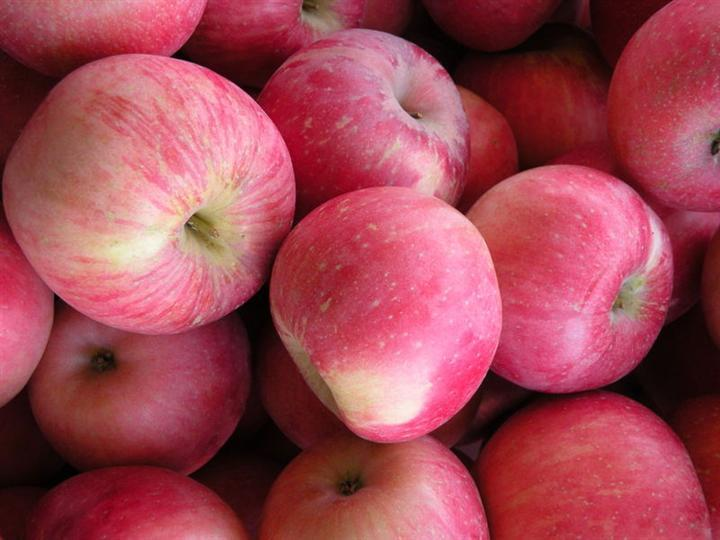apple: (5, 54, 298, 333), (269, 188, 504, 446), (457, 166, 667, 396), (259, 32, 472, 222), (467, 391, 713, 535), (604, 1, 719, 217), (255, 431, 485, 538), (178, 1, 381, 91)
